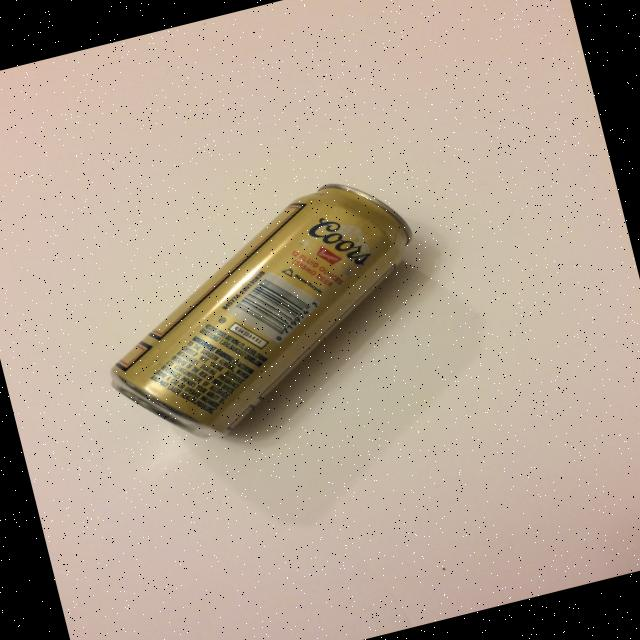metal: (75, 165, 449, 460)
